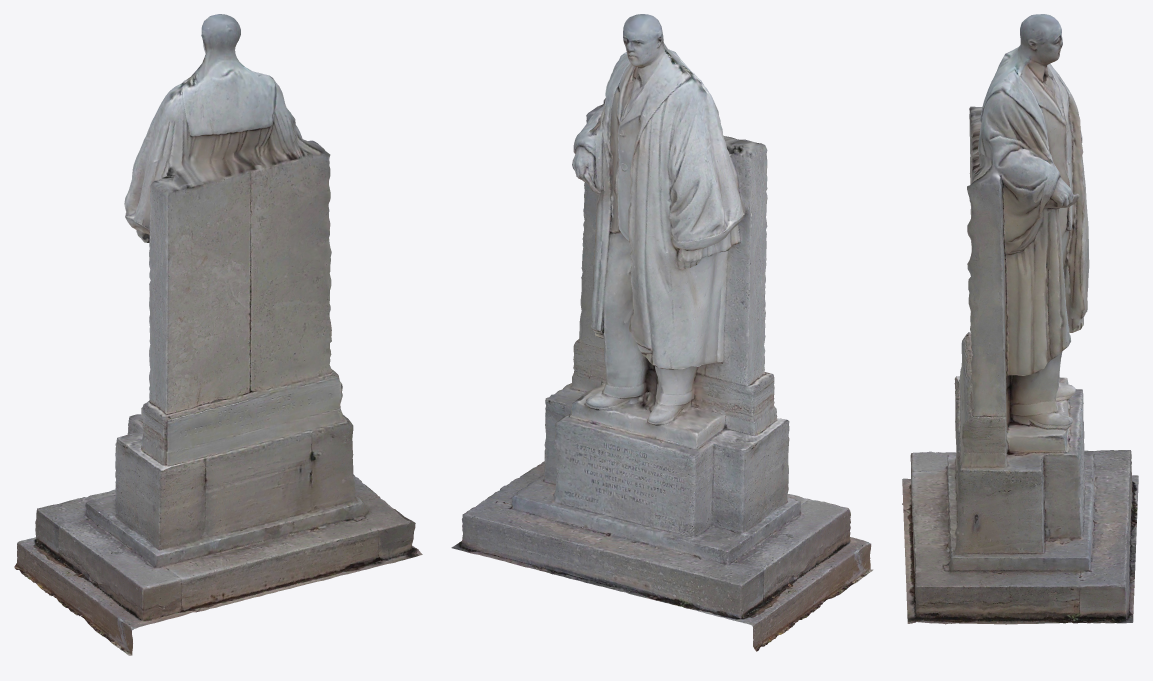
File: 3Ddata.glb
3 renders of one model, left to right at view 1: azimuth 30°, elevation 25°; view 2: azimuth 150°, elevation 25°; view 3: azimuth 270°, elevation 25°, orthographic. The views are drawn at different scales.
Parts seen in each view (by area): view 1: cce87d6c-bcd9-4270-9173-d8ae779bf105; view 2: cce87d6c-bcd9-4270-9173-d8ae779bf105; view 3: cce87d6c-bcd9-4270-9173-d8ae779bf105.
Part boxes in pixels (box(x1,y1,x2,y2)): cce87d6c-bcd9-4270-9173-d8ae779bf105: box(14, 14, 422, 655); cce87d6c-bcd9-4270-9173-d8ae779bf105: box(451, 14, 873, 651); cce87d6c-bcd9-4270-9173-d8ae779bf105: box(902, 14, 1138, 624).
Size of the model in its own units: 0.5342 by 0.9666 by 0.3545.
1 material, 1 textured.
